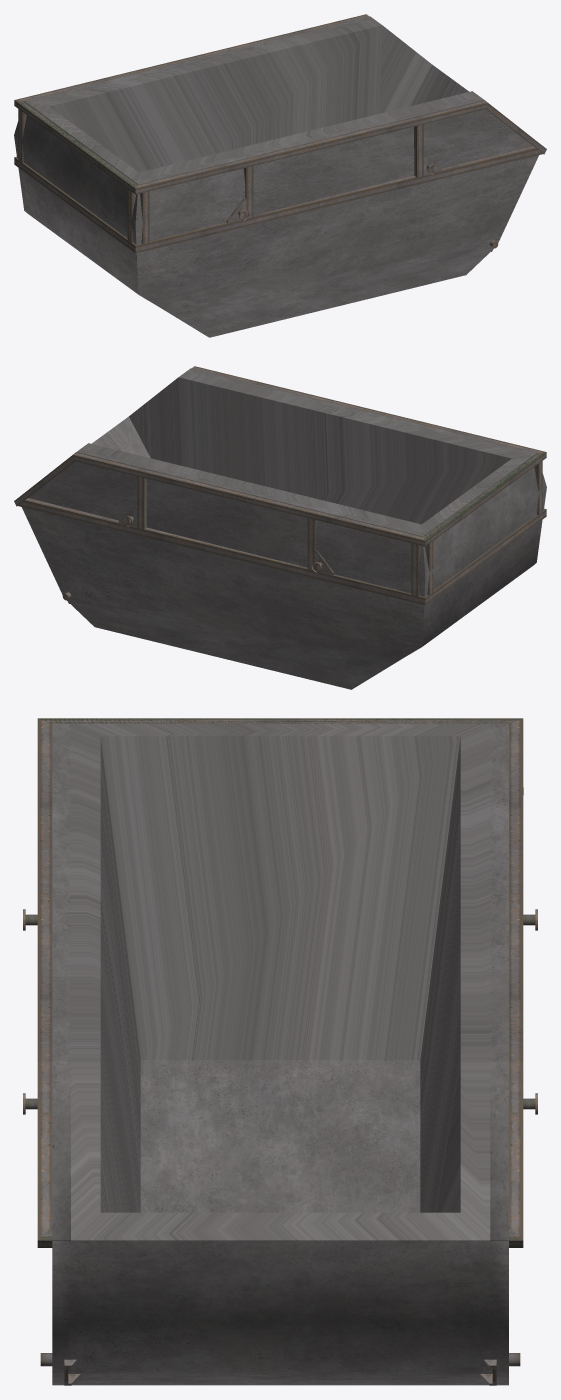
The model's file is ind_dumpster_empty.DAE.
The picture shows the model from 3 angles, top to bottom: view 1: azimuth 30°, elevation 25°; view 2: azimuth 150°, elevation 25°; view 3: azimuth 270°, elevation 25°; orthographic projection. The views are drawn at different scales.
Parts seen in each view (by area): view 1: Colmesh-1, ind_dumpster_empty150, ind_dumpster_empty40, ind_dumpster_empty300; view 2: Colmesh-1, ind_dumpster_empty150, ind_dumpster_empty40, ind_dumpster_empty300; view 3: Colmesh-1, ind_dumpster_empty150, ind_dumpster_empty300, ind_dumpster_empty40.
Boxes of the visible parts, box(x1,y1,x2,y2) form: Colmesh-1: box(14, 16, 538, 337); ind_dumpster_empty150: box(14, 14, 546, 300); ind_dumpster_empty40: box(14, 100, 137, 193); ind_dumpster_empty300: box(226, 154, 498, 248); Colmesh-1: box(22, 368, 546, 689); ind_dumpster_empty150: box(14, 366, 546, 653); ind_dumpster_empty40: box(424, 452, 546, 545); ind_dumpster_empty300: box(62, 506, 334, 600); Colmesh-1: box(52, 723, 523, 1385); ind_dumpster_empty150: box(37, 718, 523, 1385); ind_dumpster_empty300: box(23, 909, 537, 1384); ind_dumpster_empty40: box(37, 718, 523, 1247).
Size of the model in its own units: 302 by 164 by 120.
